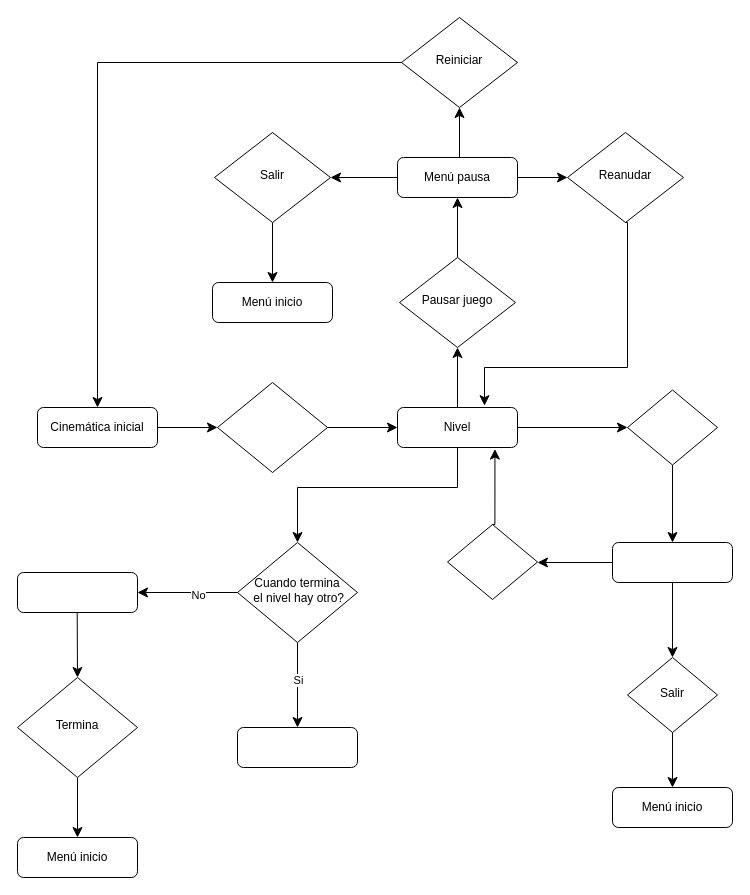
The diagram is 750 pixels wide and 895 high, and some of its shapes have lost their labels. The shapes that lost their labels are listed below. From the top down, each one's centre as x and y in pixels, then its label:
the point at 272,427: Saltar/ termina cinemática
the point at 672,427: Muere
the point at 492,562: Reintentar
the point at 672,562: Pantalla Game Over
the point at 77,592: Pantalla créditos
the point at 297,747: Siguiente nivel
